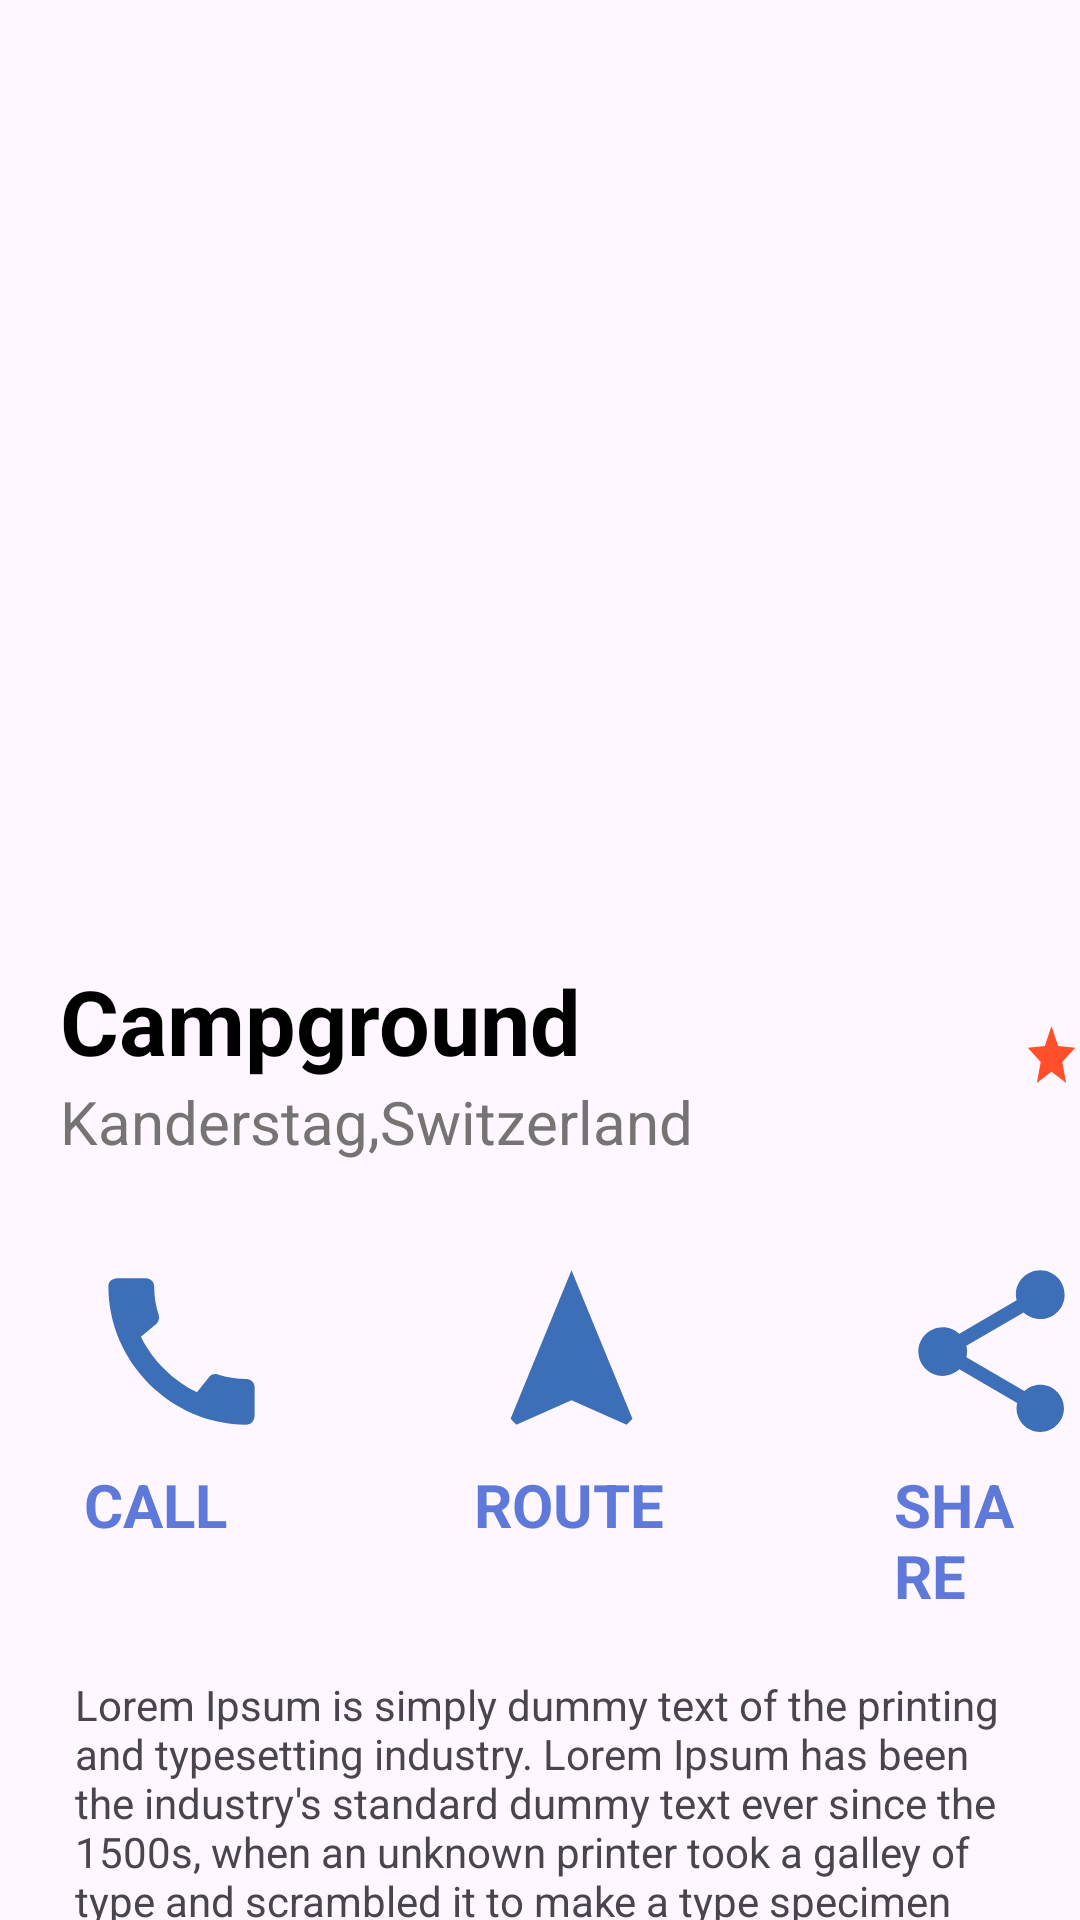

Locate icon controls on the screen. Image size 1080px×1920px, boxes as Rect(x1, y1, x2, y2).
navigation: Rect(510, 1270, 633, 1425)
star: Rect(1028, 1026, 1075, 1083)
